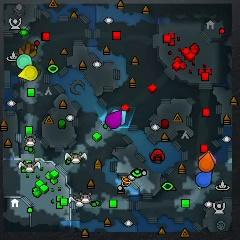p1: (196, 171, 212, 188)
p2: (17, 54, 32, 70)
p3: (105, 110, 122, 129)
p4: (17, 65, 39, 81)
p5: (198, 152, 214, 172)
x1: (198, 151, 216, 162)
x3: (111, 109, 127, 125)
x5: (18, 42, 36, 58)
